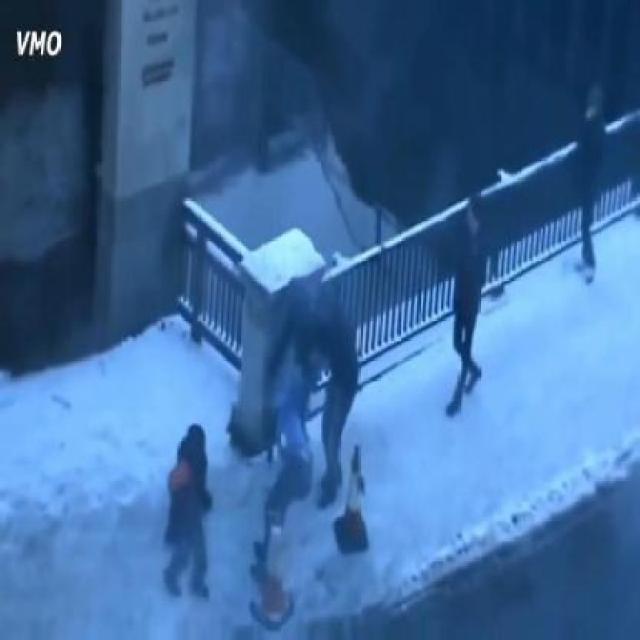fall: (158, 420, 214, 608), (259, 391, 312, 551)
